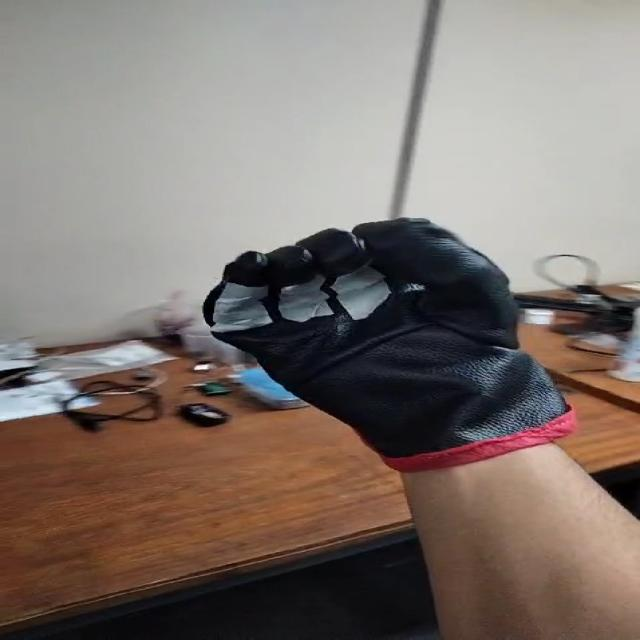Gloves: (206, 220, 583, 469)
